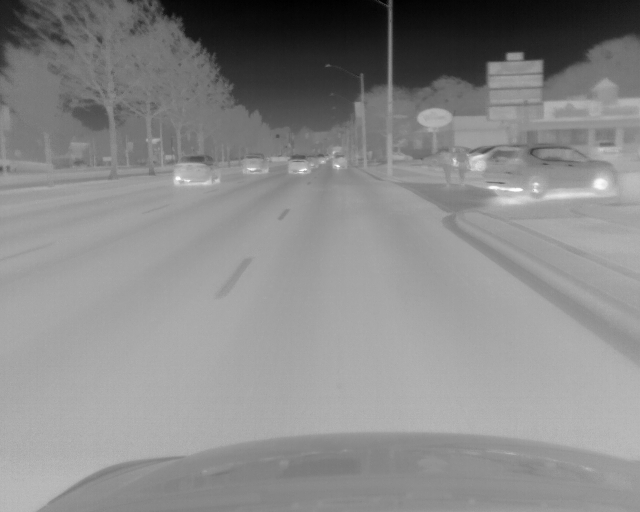car: (485, 144, 618, 198), (172, 154, 220, 185), (465, 145, 491, 172), (241, 153, 270, 175), (286, 155, 309, 174), (331, 154, 348, 172), (308, 155, 318, 169), (318, 155, 327, 166)
people: (439, 146, 456, 188), (455, 145, 470, 188)
